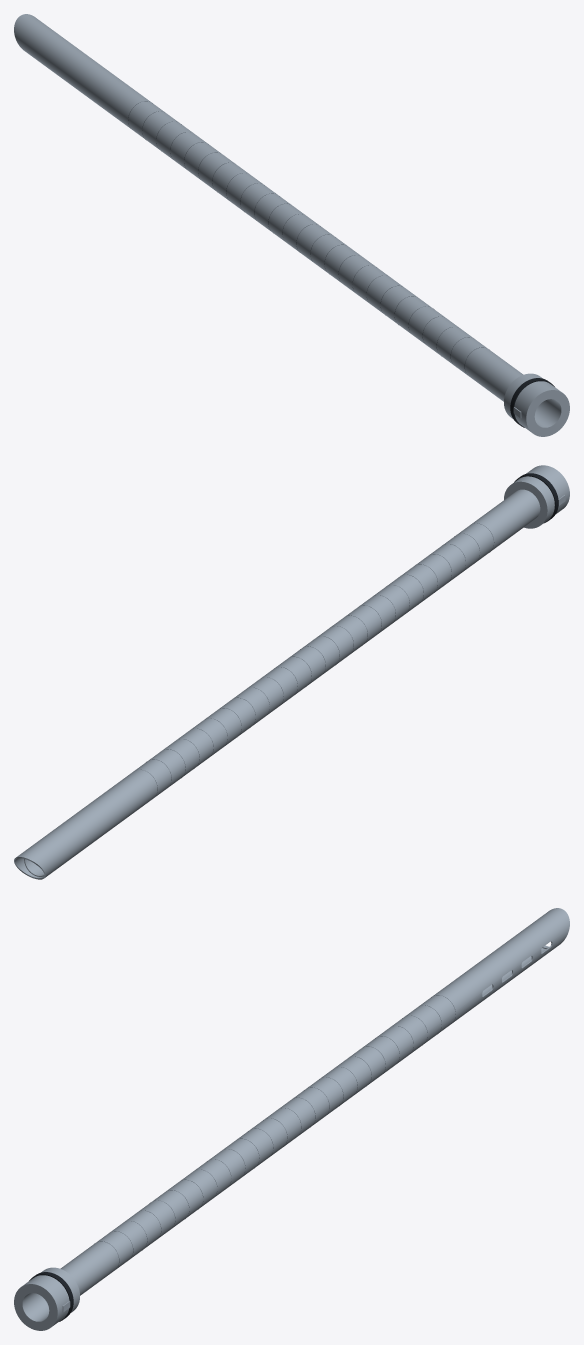
Rendered from bt2101-3-bronchial-tube-od12p00-id11p00mm-b6110fae576b.glb.
3 views of the same model, one above another, from view 1: azimuth 30°, elevation 25°; view 2: azimuth 150°, elevation 25°; view 3: azimuth 330°, elevation 25° (orthographic).
Parts seen in each view (by area): view 1: BT2101_3_Hollow_Beveled_Tube, BT2101_3_Quarter_Turn_Connector, BT2101_3_Metric_Depth_Scale; view 2: BT2101_3_Hollow_Beveled_Tube, BT2101_3_Quarter_Turn_Connector, BT2101_3_Metric_Depth_Scale; view 3: BT2101_3_Hollow_Beveled_Tube, BT2101_3_Quarter_Turn_Connector, BT2101_3_Metric_Depth_Scale.
Boxes of the visible parts, left/top/right/bottom form: BT2101_3_Hollow_Beveled_Tube: left=14, top=14, right=523, bottom=401; BT2101_3_Quarter_Turn_Connector: left=504, top=373, right=569, bottom=436; BT2101_3_Metric_Depth_Scale: left=128, top=101, right=483, bottom=371; BT2101_3_Hollow_Beveled_Tube: left=14, top=489, right=540, bottom=879; BT2101_3_Quarter_Turn_Connector: left=504, top=465, right=569, bottom=528; BT2101_3_Metric_Depth_Scale: left=141, top=523, right=494, bottom=792; BT2101_3_Hollow_Beveled_Tube: left=60, top=908, right=569, bottom=1295; BT2101_3_Quarter_Turn_Connector: left=14, top=1267, right=79, bottom=1330; BT2101_3_Metric_Depth_Scale: left=100, top=995, right=455, bottom=1265.
Bounding box in the file's own units: 0.0187 × 0.0187 × 0.374.
